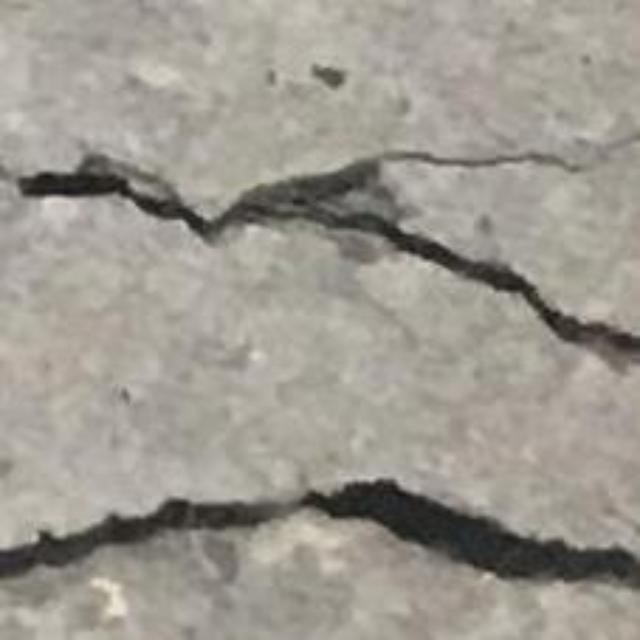crack: (0, 133, 639, 366)
